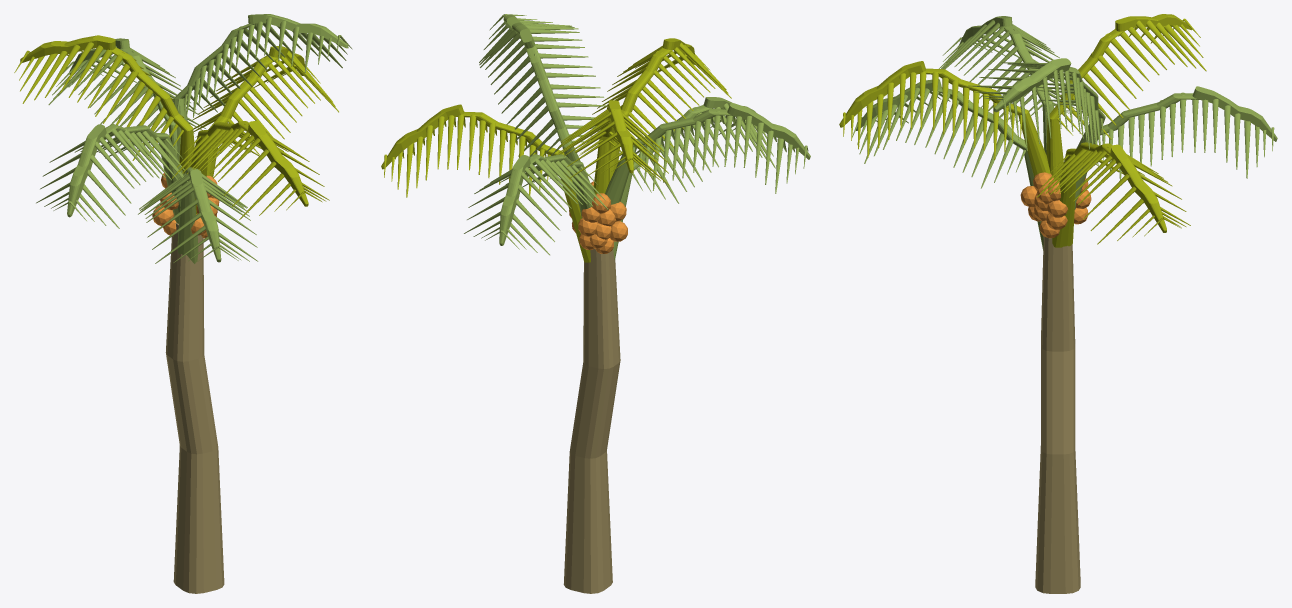
Rendered from pohon kelapa.fbx.
3 renders of one model, left to right at view 1: azimuth 30°, elevation 25°; view 2: azimuth 150°, elevation 25°; view 3: azimuth 270°, elevation 25°, orthographic. The views are drawn at different scales.
Parts seen in each view (by area): view 1: Icosphere.004, Icosphere.010; view 2: Icosphere.004, Icosphere.010; view 3: Icosphere.004, Icosphere.008.
Boxes of the visible parts, <box> form: Icosphere.004: <box>14,14,352,593</box>; Icosphere.010: <box>152,173,178,236</box>; Icosphere.004: <box>381,14,810,593</box>; Icosphere.010: <box>578,193,627,253</box>; Icosphere.004: <box>839,14,1277,593</box>; Icosphere.008: <box>1020,172,1067,238</box>.
Bounding box in the file's own units: 907 × 1377 × 985.
